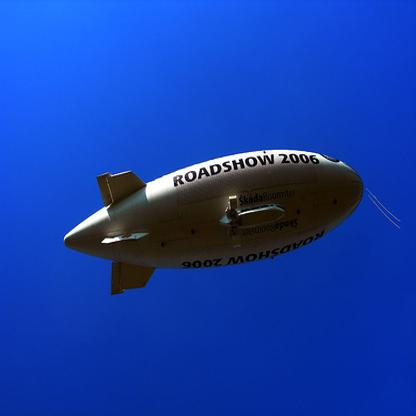Airship: (60, 149, 378, 295)
